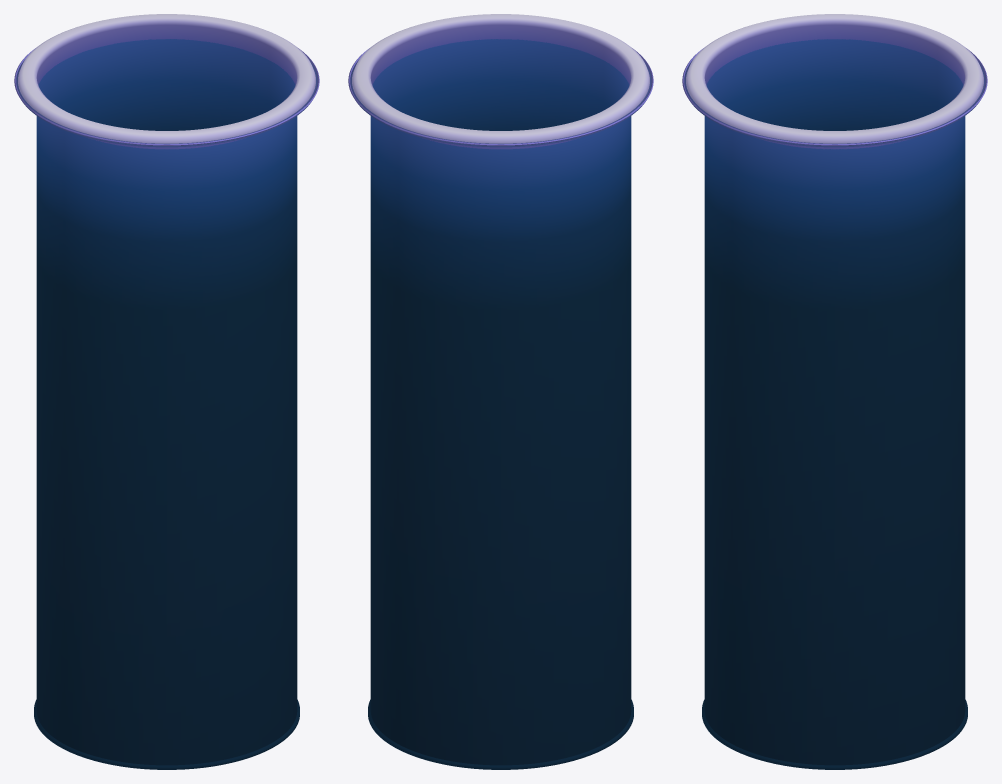
File: hole-BjXK8ar3.glb
3 renders of one model, left to right at view 1: azimuth 30°, elevation 25°; view 2: azimuth 150°, elevation 25°; view 3: azimuth 270°, elevation 25°, orthographic.
Parts seen in each view (by area): view 1: PH_InnerWall, PH_Rim, FL_InnerLip, PH_Void, PH_Outline, PH_GrowthArc; view 2: PH_InnerWall, PH_Rim, FL_InnerLip, PH_Void, PH_Outline, PH_GrowthArc; view 3: PH_InnerWall, PH_Rim, FL_InnerLip, PH_Void, PH_Outline, PH_GrowthArc.
Boxes of the visible parts, box(x1,y1,x2,y2) form: PH_InnerWall: box(36, 39, 297, 765); PH_Rim: box(18, 14, 315, 143); FL_InnerLip: box(36, 25, 297, 149); PH_Void: box(34, 699, 299, 769); PH_Outline: box(16, 60, 317, 147); PH_GrowthArc: box(14, 48, 319, 145); PH_InnerWall: box(370, 39, 631, 765); PH_Rim: box(352, 14, 649, 143); FL_InnerLip: box(370, 25, 631, 149); PH_Void: box(368, 699, 633, 769); PH_Outline: box(350, 60, 651, 147); PH_GrowthArc: box(348, 48, 653, 145); PH_InnerWall: box(704, 39, 965, 765); PH_Rim: box(686, 14, 983, 143); FL_InnerLip: box(704, 25, 965, 149); PH_Void: box(702, 699, 967, 769); PH_Outline: box(684, 60, 985, 147); PH_GrowthArc: box(682, 48, 987, 145).
Size of the model in its own units: 0.97 by 2.24 by 0.97.
